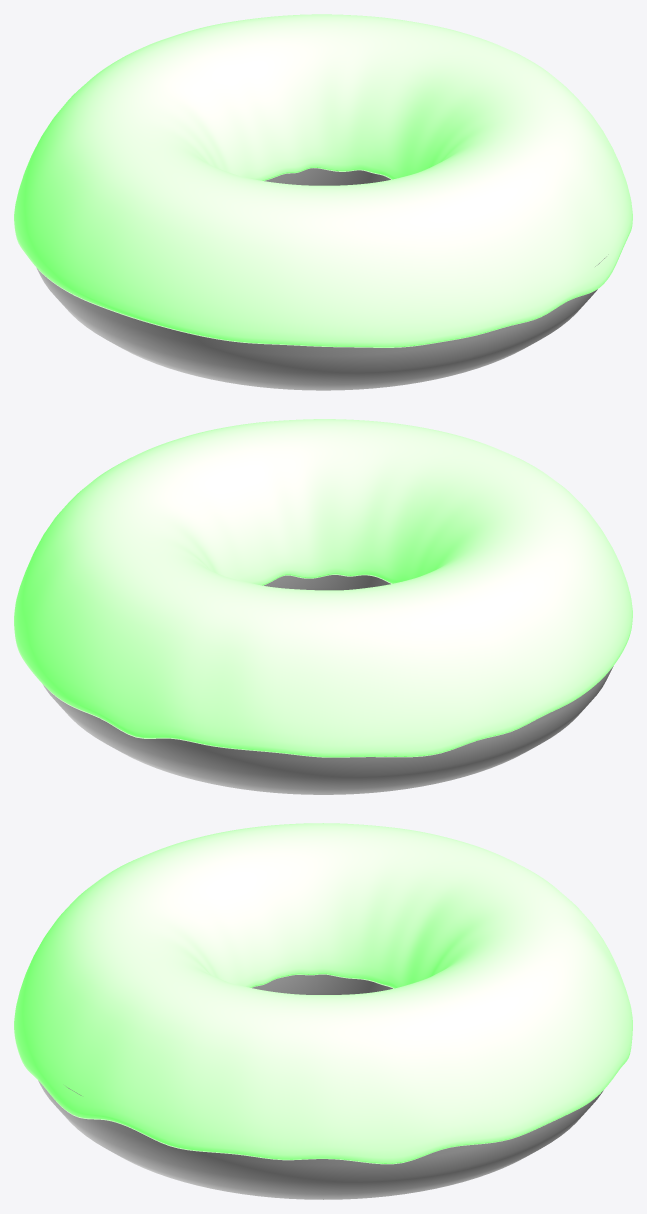
The model's file is Donut.glb.
The picture shows the model from 3 angles, top to bottom: view 1: azimuth 30°, elevation 25°; view 2: azimuth 150°, elevation 25°; view 3: azimuth 270°, elevation 25°; orthographic projection.
Parts seen in each view (by area): view 1: Torus.001, Torus; view 2: Torus.001, Torus; view 3: Torus.001, Torus.
Part boxes in pixels (left/top/right/bottom): Torus.001: left=14, top=14, right=632, bottom=347; Torus: left=36, top=168, right=608, bottom=390; Torus.001: left=14, top=419, right=632, bottom=757; Torus: left=43, top=575, right=613, bottom=794; Torus.001: left=14, top=823, right=632, bottom=1164; Torus: left=38, top=974, right=603, bottom=1199.
Bounding box in the file's own units: 3.02 × 1 × 3.02.
